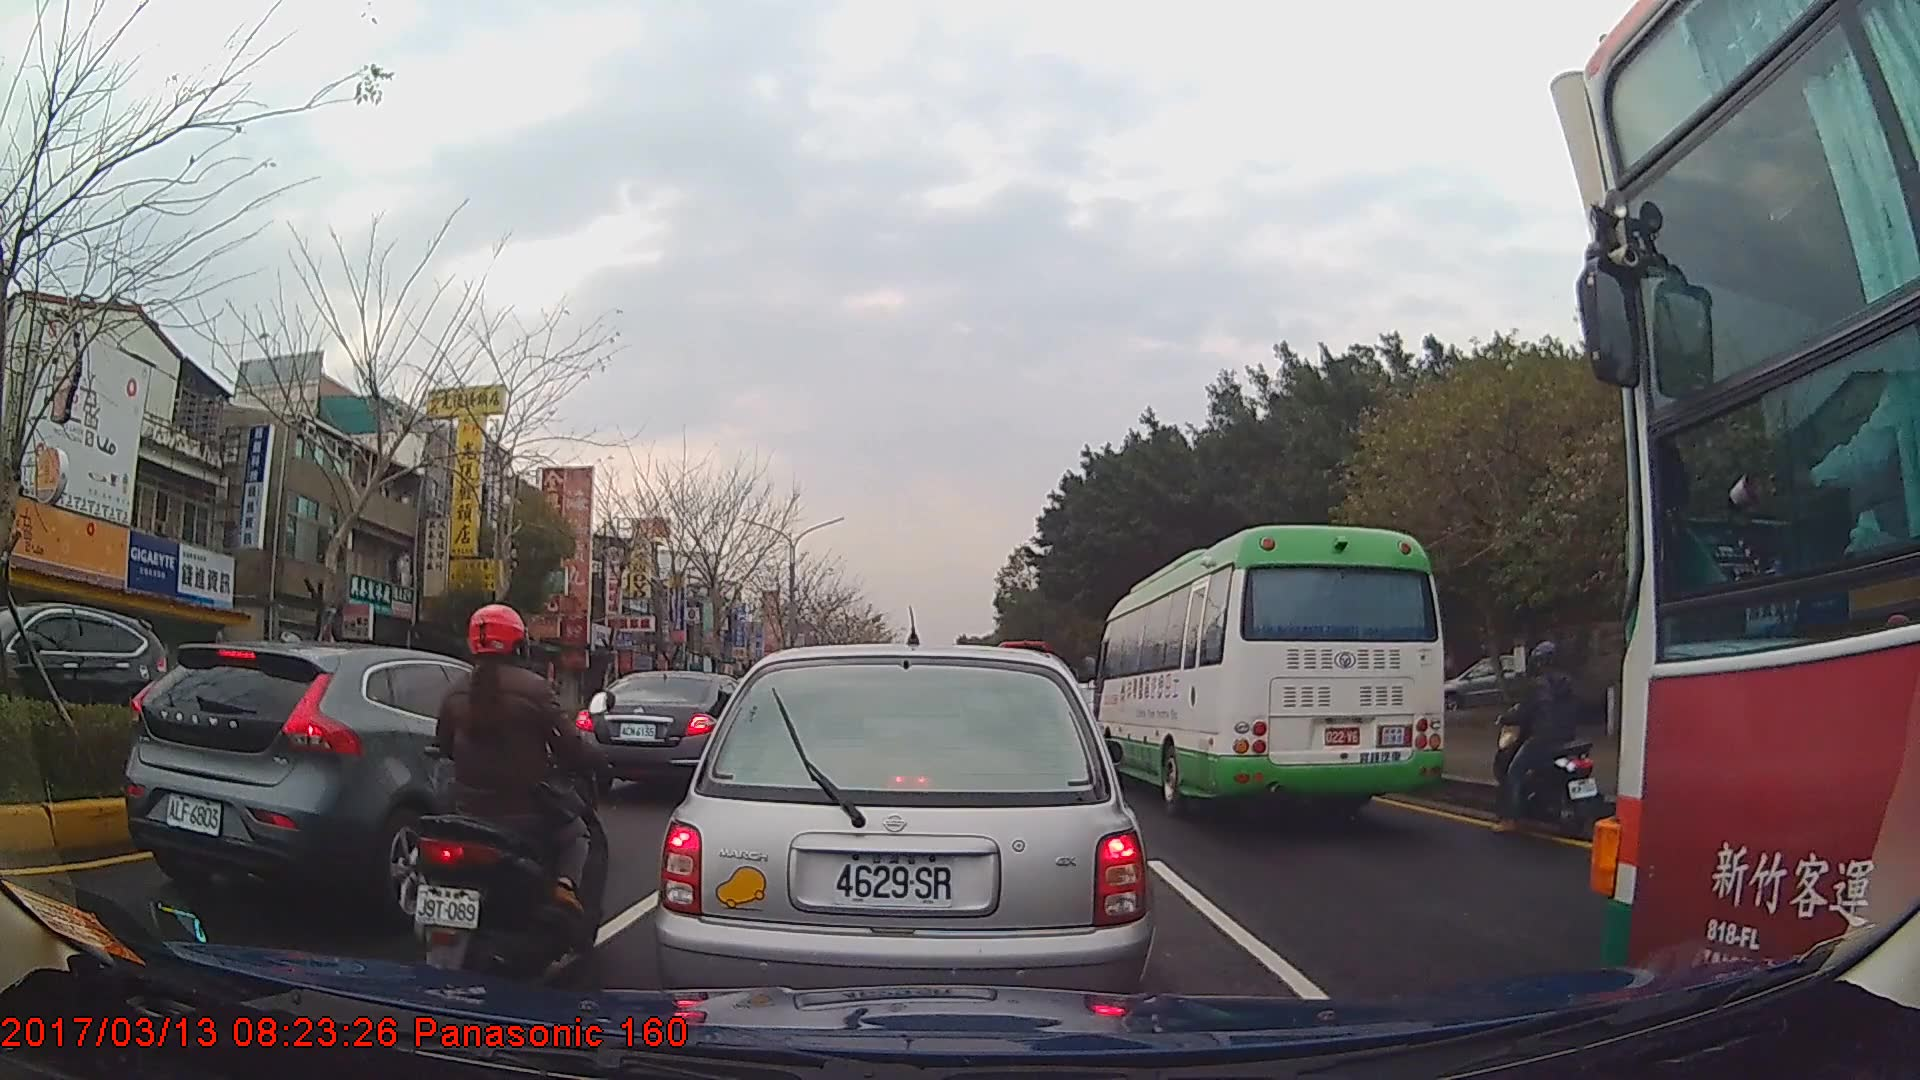rider: (413, 602, 614, 986), (1491, 640, 1599, 837)
vehicle: (1568, 0, 1920, 1055), (653, 639, 1156, 1040), (123, 644, 598, 919), (1094, 523, 1444, 817), (2, 598, 164, 754), (577, 668, 757, 797)
